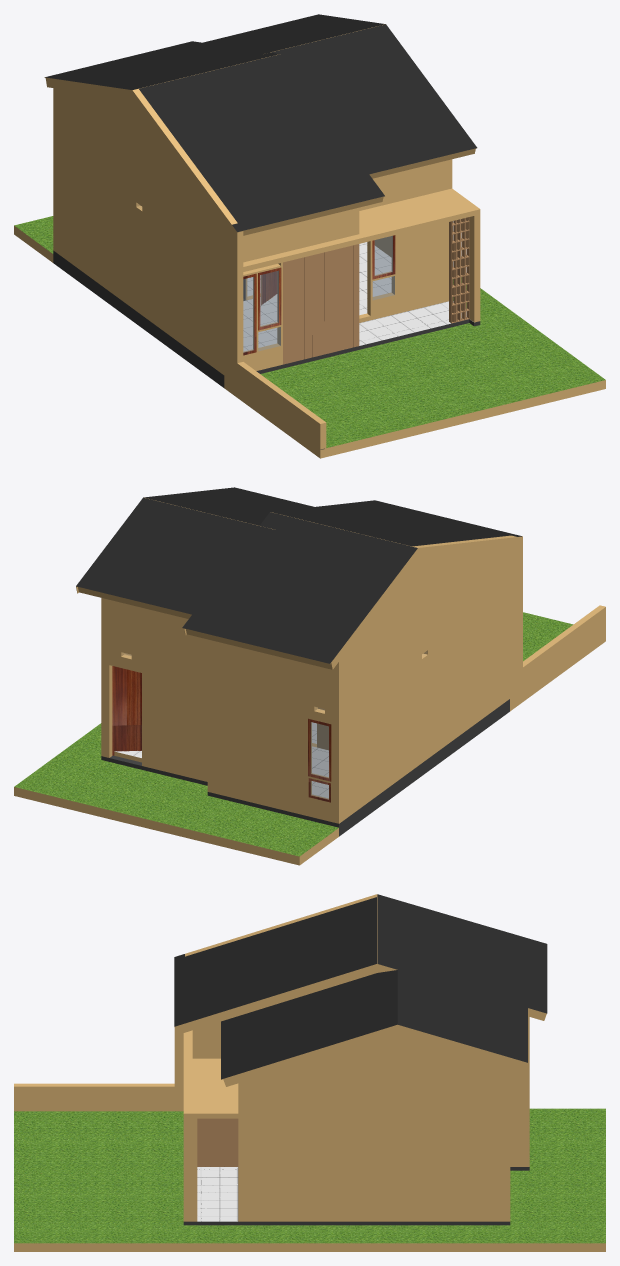
Rendered from rajendra_3d.prepolish.glb.
The picture shows the model from 3 angles, top to bottom: view 1: azimuth 30°, elevation 25°; view 2: azimuth 150°, elevation 25°; view 3: azimuth 270°, elevation 25°; orthographic projection. The views are drawn at different scales.
Visible parts, largest first — view 1: 324932, 43619, 48621, 47421, 39739, Root Node, 47423, 43304; view 2: 43619, 324932, 48621, 43304, Root Node, 47421; view 3: 43619, 48621, 324932, Root Node.
Boxes of the visible parts, <box> form: 324932: <box>14,24,605,458</box>; 43619: <box>14,159,605,449</box>; 48621: <box>45,14,477,231</box>; 47421: <box>243,236,394,352</box>; 39739: <box>449,217,469,323</box>; Root Node: <box>45,78,475,235</box>; 47423: <box>243,267,281,355</box>; 43304: <box>261,235,395,304</box>; 43619: <box>14,598,573,856</box>; 324932: <box>14,497,605,865</box>; 48621: <box>76,487,521,663</box>; 43304: <box>112,666,330,802</box>; Root Node: <box>76,586,428,714</box>; 47421: <box>310,722,328,799</box>; 43619: <box>14,1016,605,1243</box>; 48621: <box>174,894,547,1079</box>; 324932: <box>14,894,605,1251</box>; Root Node: <box>177,964,546,1086</box>.
Size of the model in its own units: 7 by 5.41 by 13.
24 materials, 8 textured.
